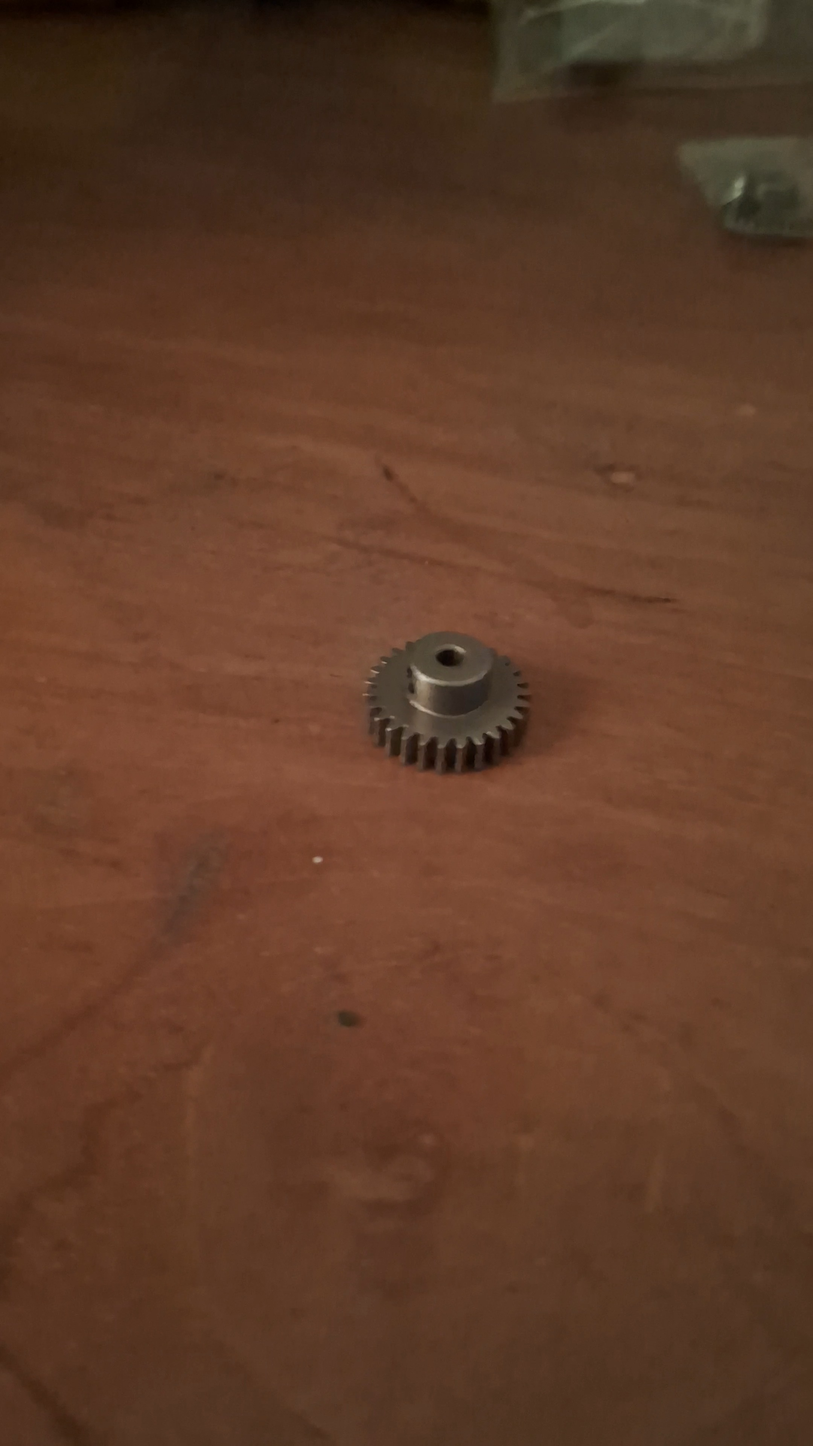spur gear: (366, 632, 529, 772)
